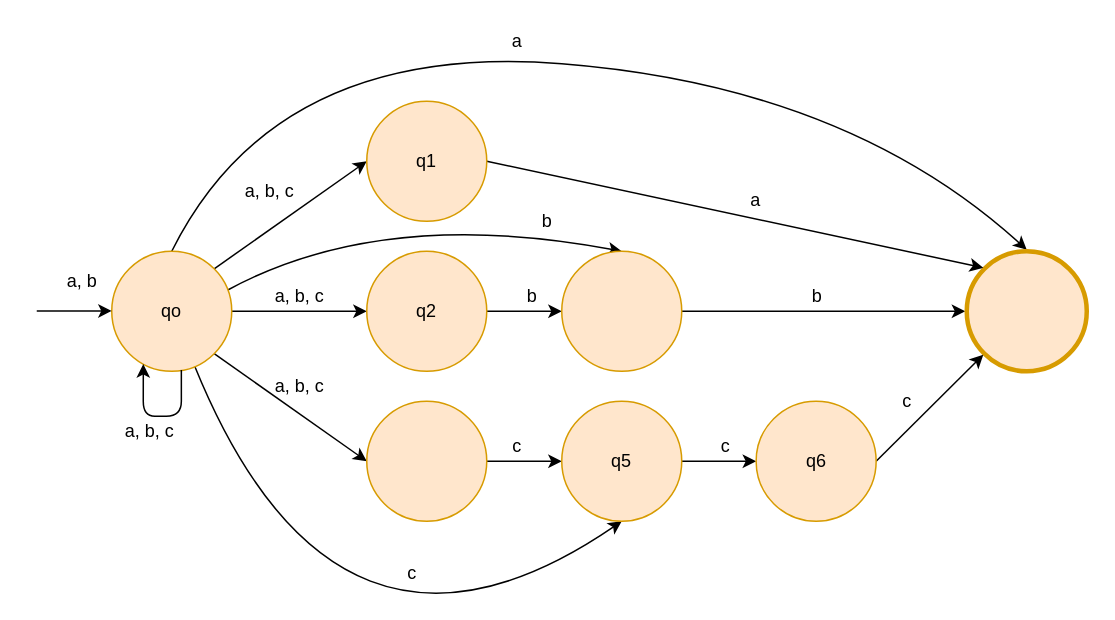
Image size: 1115x620. Some labels were removed from this diagram. The centre of each missing label's shape, as x and y in pixels:
"q3" belongs at pixel 621 310.
"q4" belongs at pixel 426 460.
"qf" belongs at pixel 1026 310.
